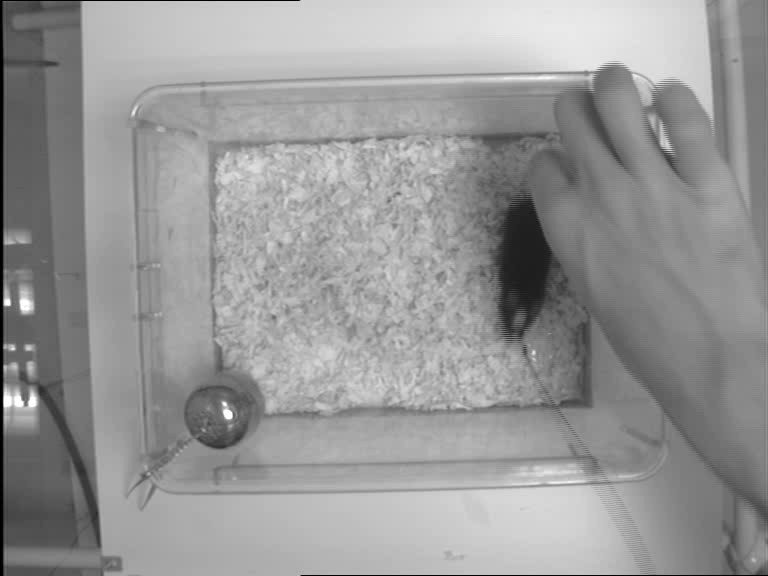mice: (495, 190, 562, 344)
